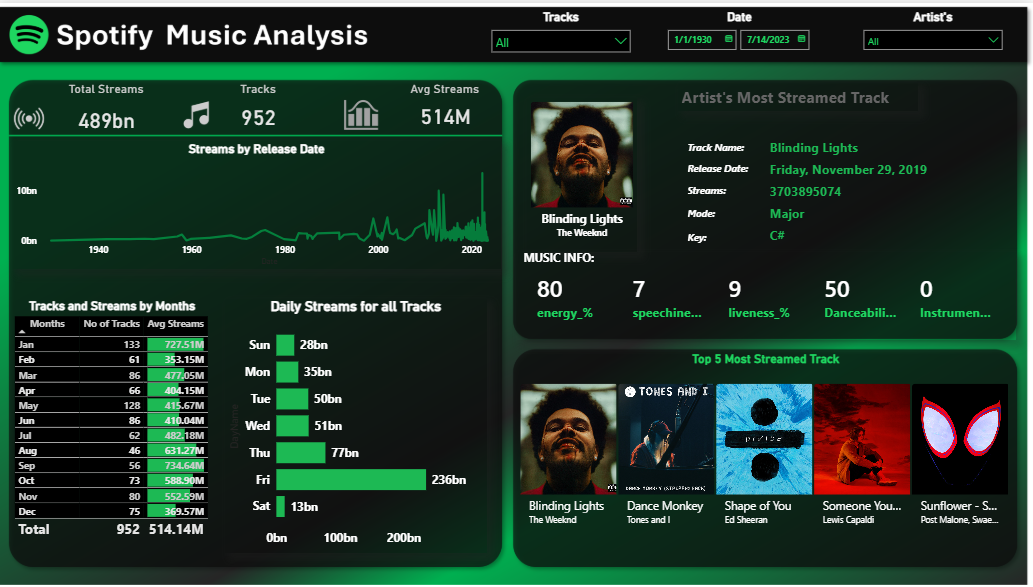

The dashboard page shown, as its layout file describes it:
{"tool":"powerbi","page":{"name":"Page 1","canvas":[1440,820],"ordinal":0},"visuals":[{"type":"card","title":"Total Streams","fields":{"Values":["Sum(Spotify Dataset.streams)"]},"box":[90.7,107.4,120.4,85.2],"z":0},{"type":"card","title":"Tracks","fields":{"Values":["CountNonNull(Spotify Dataset.track_name)"]},"box":[301.9,107.7,121.2,76.9],"z":1000},{"type":"card","title":"Avg Streams","fields":{"Values":["Avg(Spotify Dataset.streams)"]},"box":[561.5,107.7,119.2,75],"z":2000},{"type":"lineChart","title":"Streams by Release Date","fields":{"Category":["Calendar.Date"],"Y":["Sum(Spotify Dataset.streams)"]},"box":[20.4,192.6,679.6,177.8],"z":3000},{"type":"tableEx","title":"Tracks and Streams by Months","fields":{"Values":["Calendar.MonthName","Spotify Dataset.track_name","Avg(Spotify Dataset.streams)"]},"box":[19.2,409.6,282.7,353.8],"z":4000},{"type":"clusteredBarChart","title":"Daily Streams for all Tracks","fields":{"Category":["Calendar.DayName"],"Y":["Sum(Spotify Dataset.streams)"]},"box":[317.3,409.6,363.5,353.8],"z":5000},{"type":"textbox","box":[945.8,110.4,333.3,39.6],"z":6000},{"type":"advancedSlicerVisual","fields":{"Values":["Spotify Dataset.track_name"]},"box":[735.4,131.2,154.2,214.6],"z":7000},{"type":"multiRowCard","fields":{"Values":["Spotify Dataset.track_name","Spotify Dataset.Date","Sum(Spotify Dataset.streams)","Spotify Dataset.mode","Spotify Dataset.key"]},"box":[1068.8,183.3,247.9,154.2],"z":8000},{"type":"cardVisual","fields":{"Data":["Sum(Spotify Dataset.energy_%)","Sum(Spotify Dataset.speechiness_%)","Sum(Spotify Dataset.liveness_%)","Sum(Spotify Dataset.danceability_%)","Sum(Spotify Dataset.instrumentalness_%)"]},"box":[720.8,345.8,693.8,122.9],"z":9000},{"type":"textbox","box":[954.2,185.4,114.6,31.2],"z":10000},{"type":"textbox","box":[954.2,214.6,114.6,31.2],"z":11000},{"type":"textbox","box":[954.2,245.8,77.1,35.4],"z":12000},{"type":"textbox","box":[954.2,277.1,77.1,33.3],"z":13000},{"type":"textbox","box":[954.2,310.4,58.3,35.4],"z":14000},{"type":"textbox","box":[719.2,336.5,123.1,38.5],"z":15000},{"type":"advancedSlicerVisual","title":"Top 5  Most Streamed Track","fields":{"Values":["Spotify Dataset.track_name"]},"box":[720.8,483.3,693.8,281.2],"z":16000},{"type":"slicer","title":"Tracks","fields":{"Values":["Spotify Dataset.track_name"]},"box":[677.1,8.3,212.5,66.7],"z":17000},{"type":"slicer","title":"Date","fields":{"Values":["Calendar.Date"]},"box":[918.8,8.3,225,72.9],"z":18000},{"type":"slicer","title":"Artist''s","fields":{"Values":["Spotify Dataset.artist(s)_name"]},"box":[1193.8,8.3,212.5,66.7],"z":19000}]}

Visuals, with their boxes in screenshot pixels (x1, y1, x2, y2), scaled from the page's 1440x820 canvas onto the 1033x587 screenshot:
"Total Streams" card: [65,77,151,138]
"Tracks" card: [217,77,304,132]
"Avg Streams" card: [403,77,488,131]
"Streams by Release Date" lineChart: [15,138,502,265]
"Tracks and Streams by Months" tableEx: [14,293,217,546]
"Daily Streams for all Tracks" clusteredBarChart: [228,293,488,546]
textbox: [678,79,918,107]
advancedSlicerVisual - Spotify Dataset.track_name: [528,94,638,248]
multiRowCard - Spotify Dataset.track_name x Spotify Dataset.Date: [767,131,945,242]
cardVisual - Sum(Spotify Dataset.energy_%) x Sum(Spotify Dataset.speechiness_%): [517,248,1015,336]
textbox: [685,133,767,155]
textbox: [685,154,767,176]
textbox: [685,176,740,201]
textbox: [685,198,740,222]
textbox: [685,222,726,248]
textbox: [516,241,604,268]
"Top 5  Most Streamed Track" advancedSlicerVisual: [517,346,1015,547]
"Tracks" slicer: [486,6,638,54]
"Date" slicer: [659,6,821,58]
"Artist''s" slicer: [856,6,1009,54]
